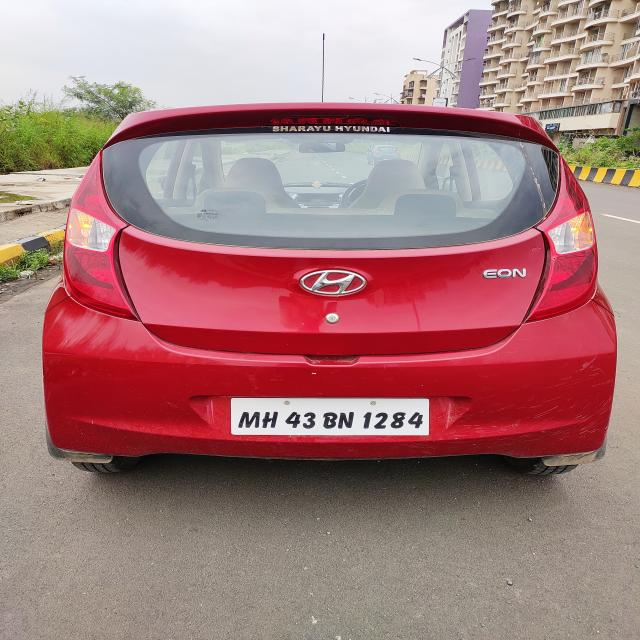Number-Plate: (226, 398, 432, 438)
